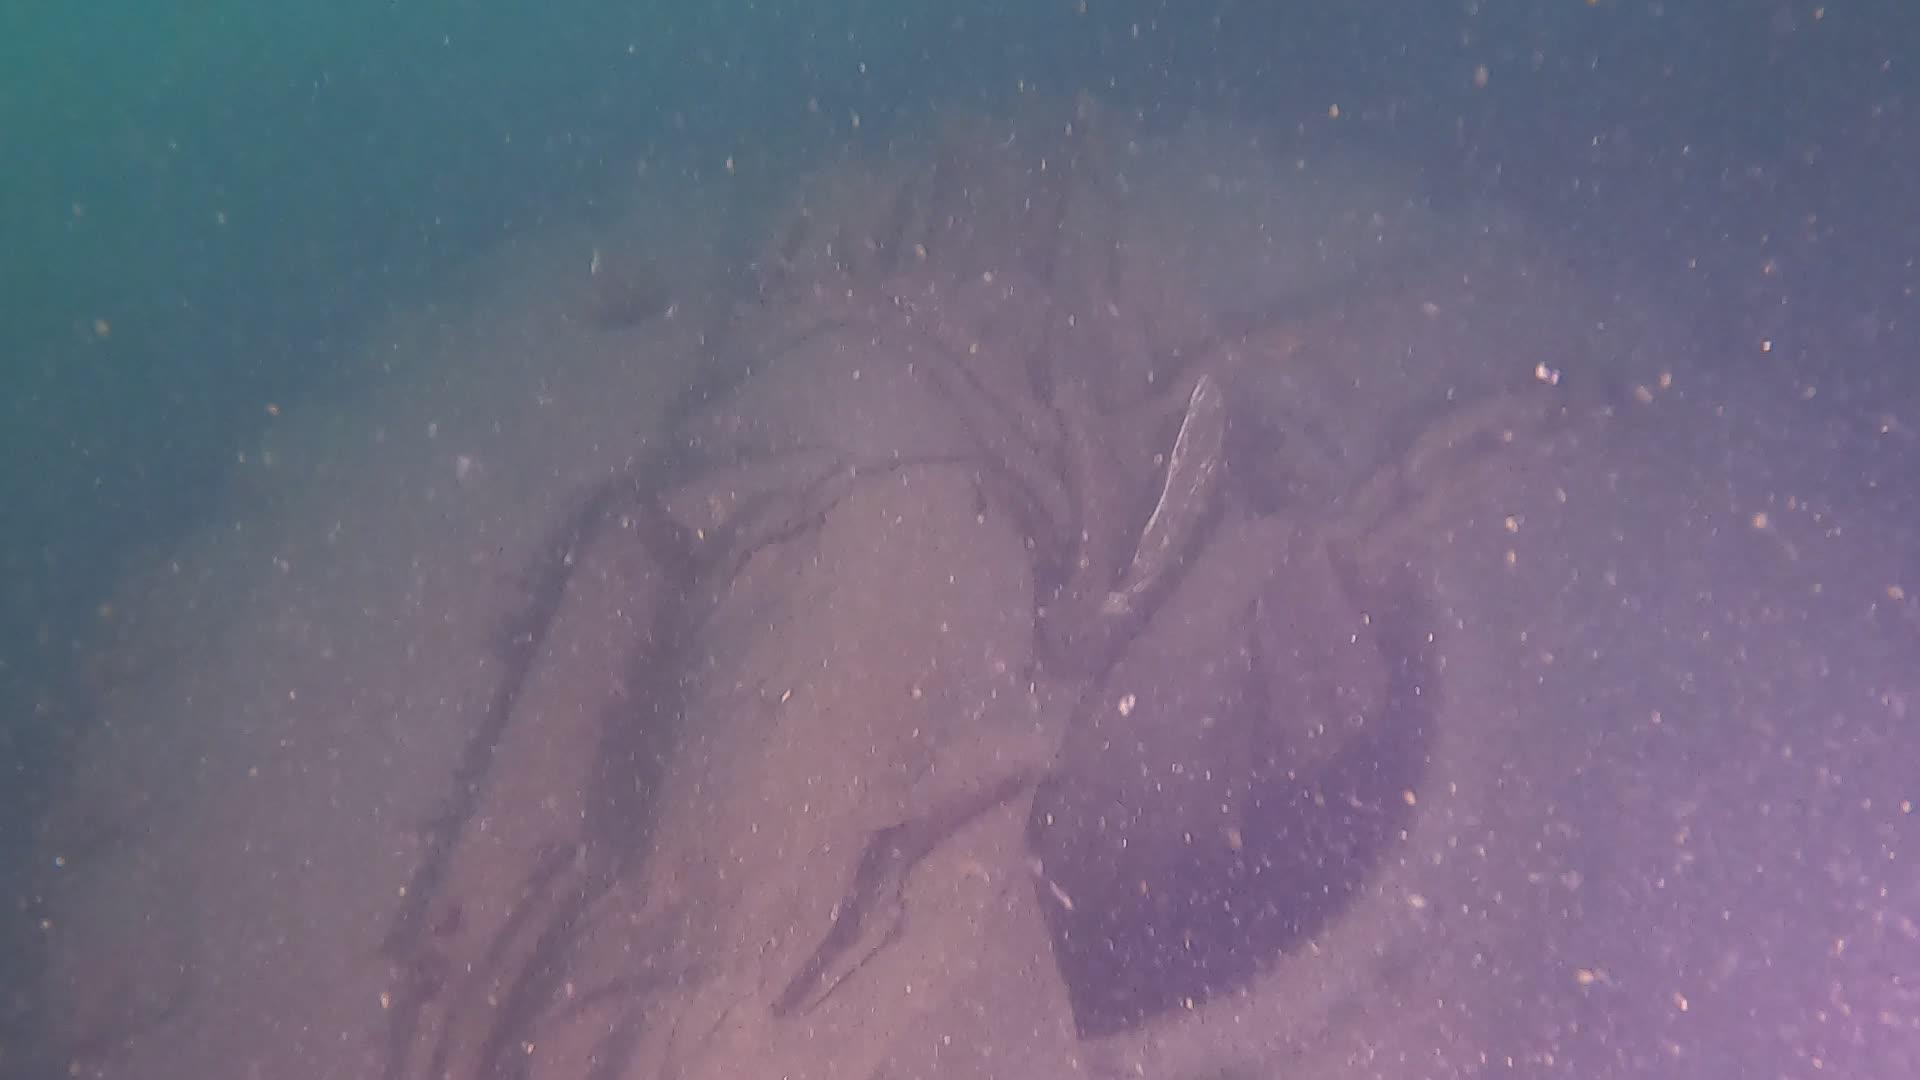other objects: (364, 47, 1663, 1080)
